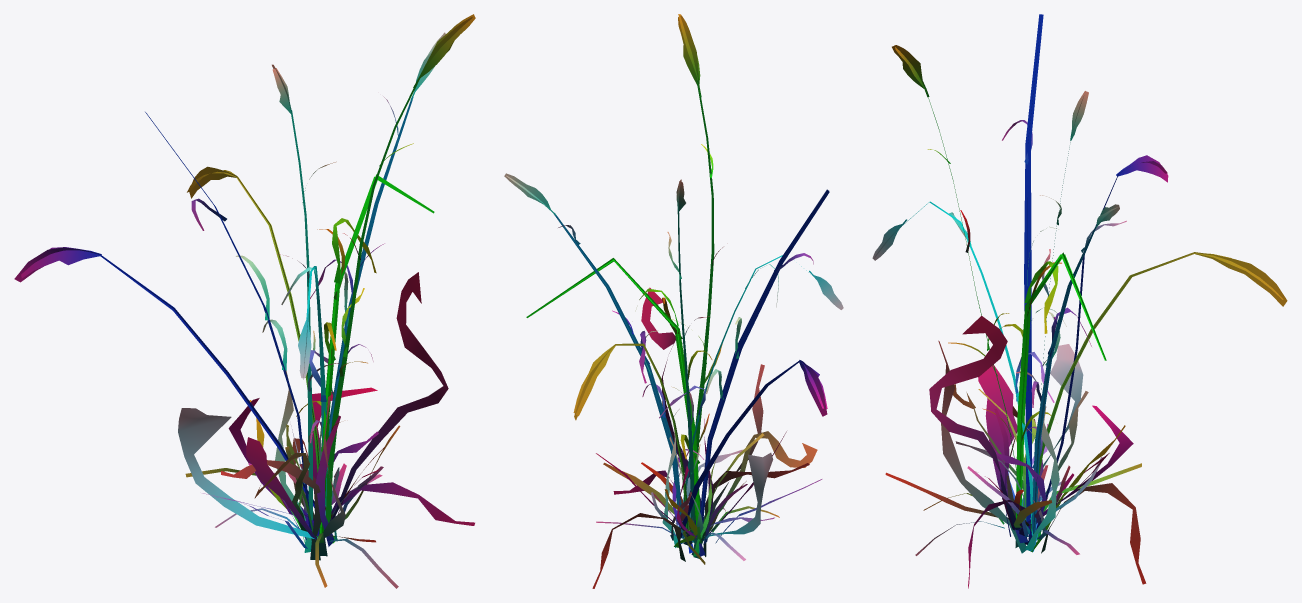
File: Wheat_Grass_tdcrdbur_Low_tdcrdbur_VarB_LOD0.fbx
3 views of the same model, side by side, from view 1: azimuth 30°, elevation 25°; view 2: azimuth 150°, elevation 25°; view 3: azimuth 270°, elevation 25° (orthographic). The views are drawn at different scales.
Parts seen in each view (by area): view 1: _f3ad_VarB_LOD1; view 2: _f3ad_VarB_LOD1; view 3: _f3ad_VarB_LOD1.
Boxes of the visible parts, left/top/right/bottom form: _f3ad_VarB_LOD1: left=14, top=14, right=475, bottom=588; _f3ad_VarB_LOD1: left=504, top=14, right=843, bottom=588; _f3ad_VarB_LOD1: left=872, top=14, right=1287, bottom=588.
Size of the model in its own units: 86.82 by 118 by 80.04.
